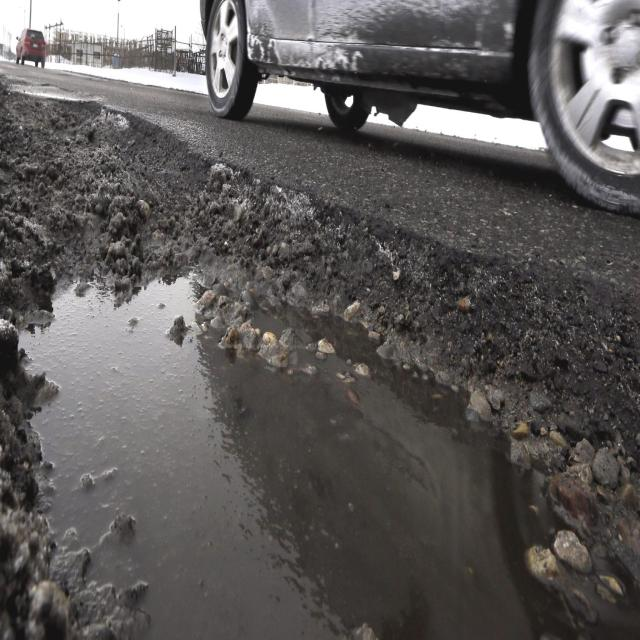pothole: (14, 206, 598, 640)
